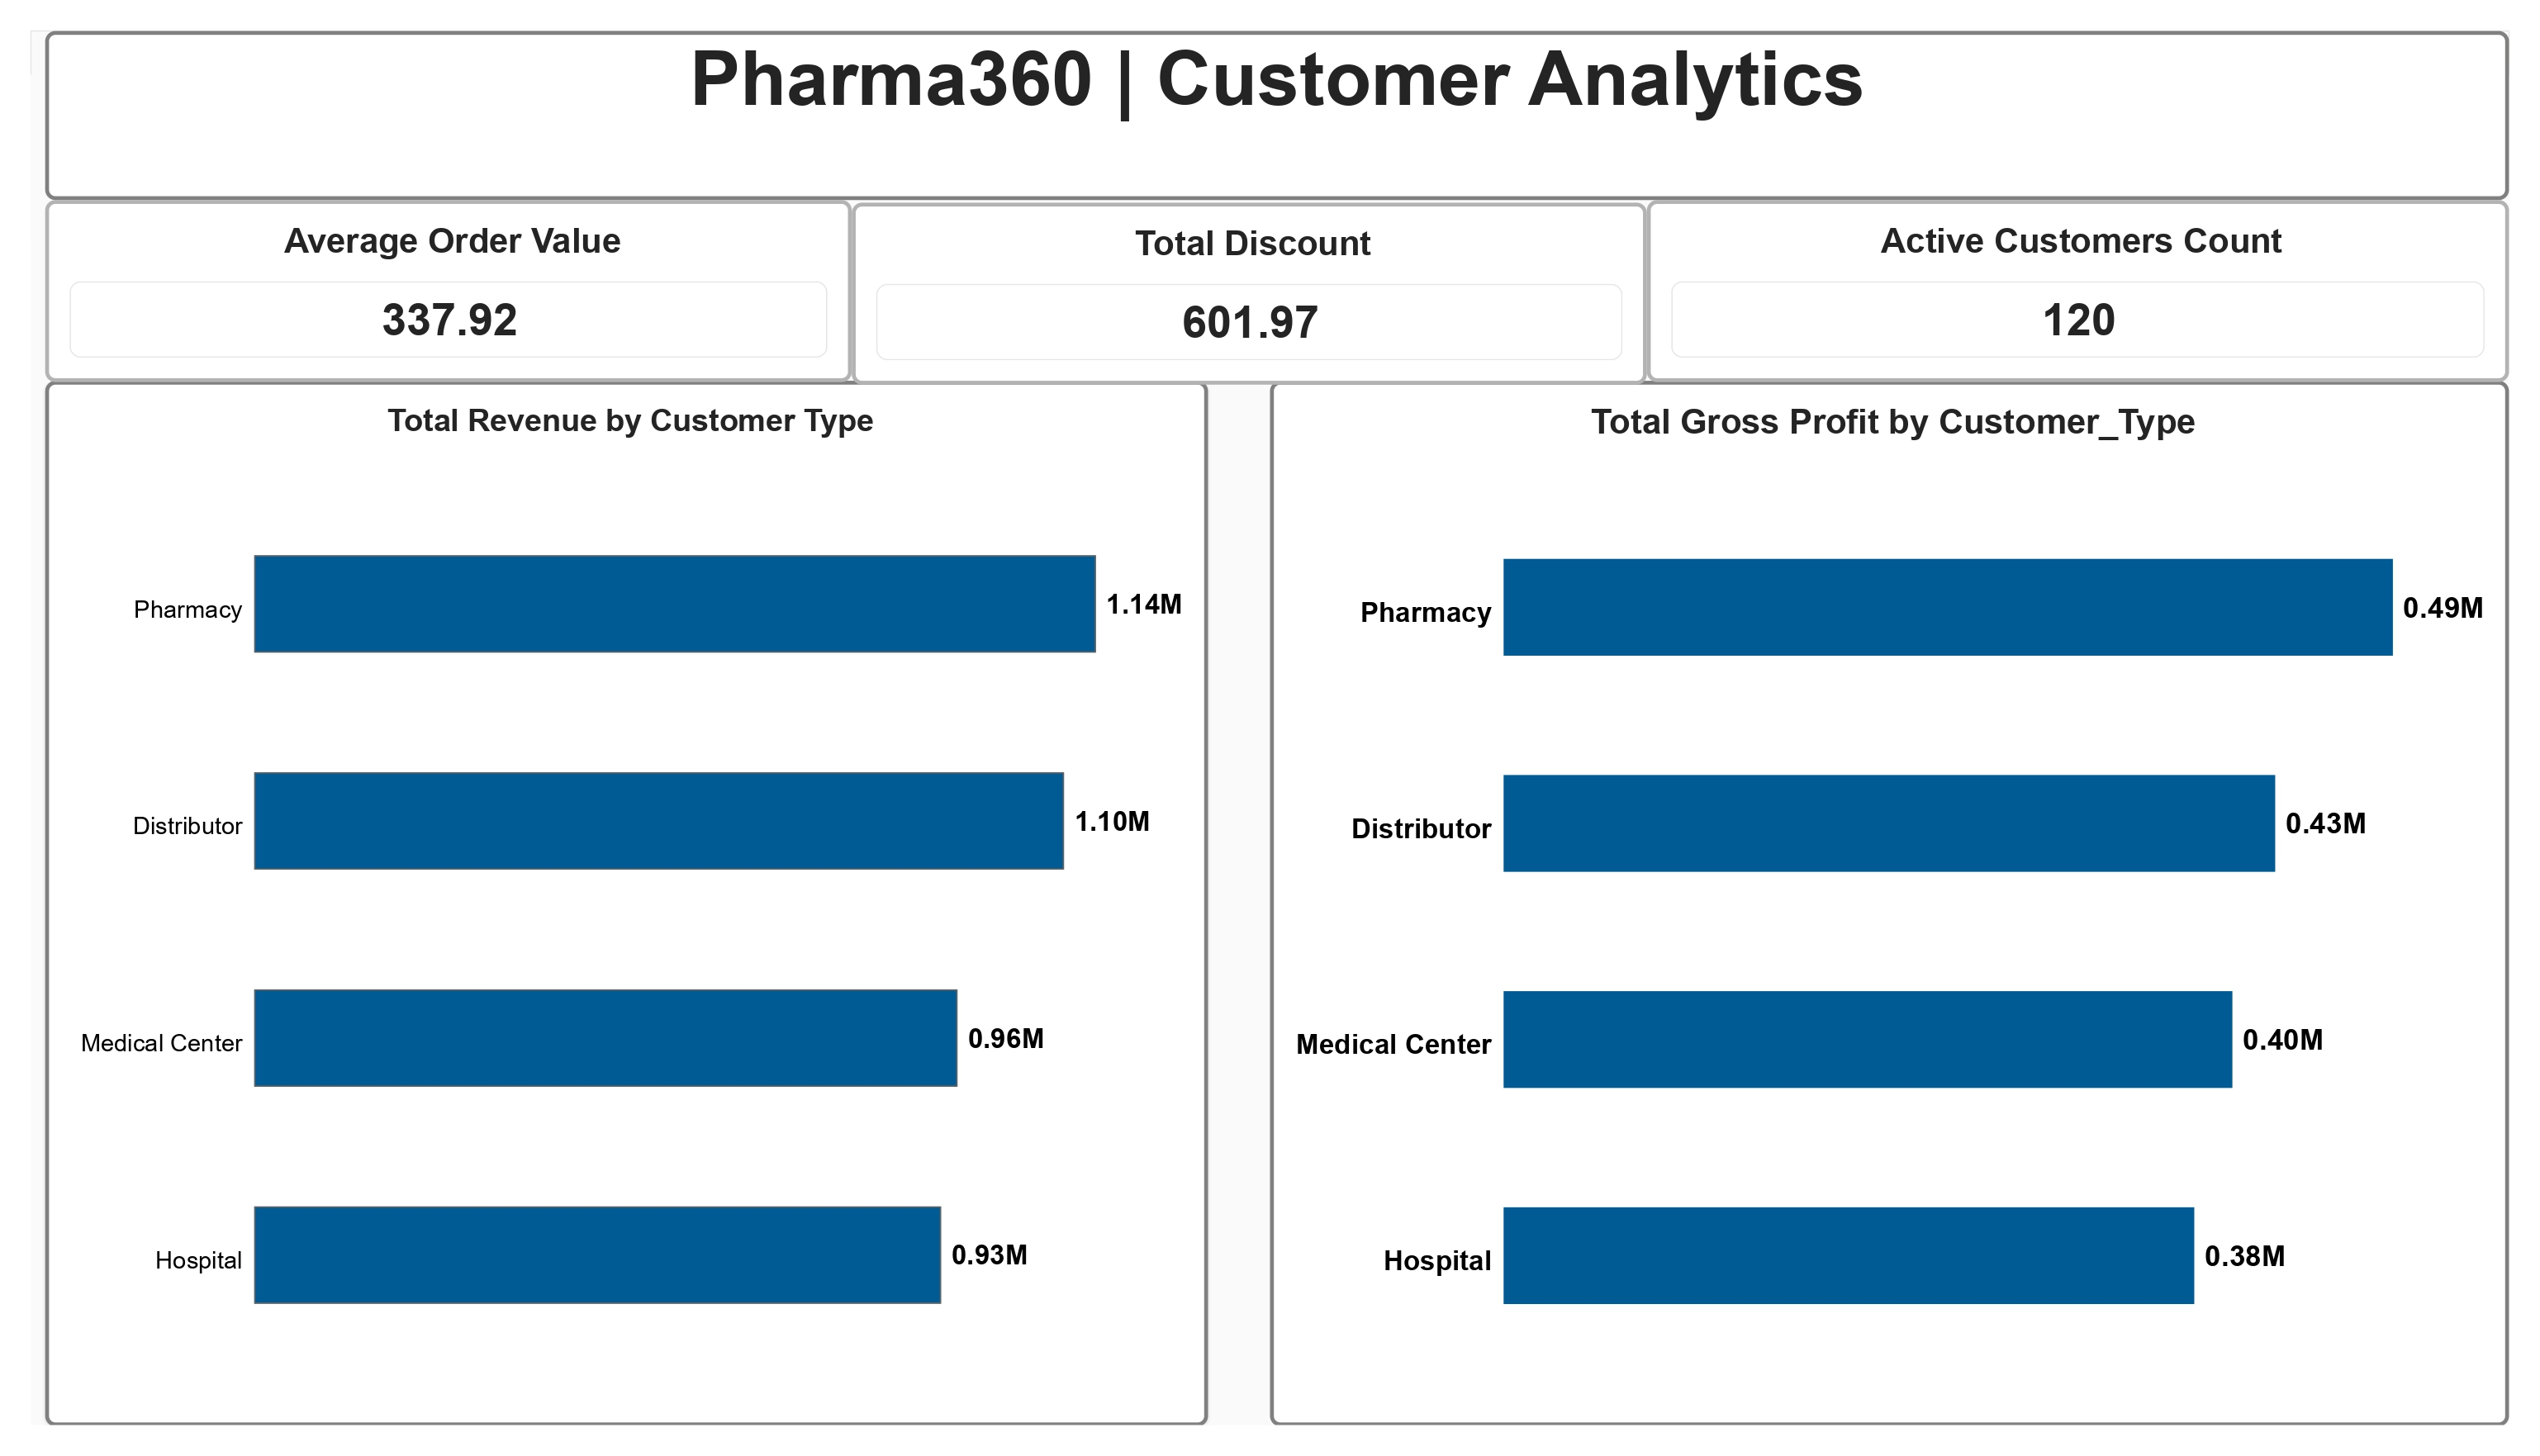

The page's visual inventory and layout, read from the dashboard file:
{"tool":"powerbi","page":{"name":"Customer Analytics","canvas":[1920,1080],"ordinal":2},"visuals":[{"type":"clusteredBarChart","title":"Total Revenue by Customer Type","fields":{"Category":["pharma360 customers.Customer_Type"],"Y":["pharma360 fact_sales.Total_Revenue"]},"box":[10.7,270.8,901,809.8],"z":0},{"type":"textbox","box":[10.7,0,1909.3,130.6],"z":1000},{"type":"barChart","fields":{"Category":["pharma360 customers.Customer_Type"],"Y":["pharma360 fact_sales.Total Gross Profit"]},"box":[960,270.8,960,809.8],"z":2000},{"type":"cardVisual","title":"Average Order Value","fields":{"Data":["pharma360 fact_sales.Avreage Order Value"]},"box":[10.7,130.6,625,141.3],"z":3000},{"type":"cardVisual","title":"Total Discount","fields":{"Data":["pharma360 fact_sales.Total Discounts"]},"box":[635.7,132.7,616.5,141.3],"z":4000},{"type":"cardVisual","title":"Active Customers Count","fields":{"Data":["pharma360 customers.Active Customers Count"]},"box":[1252.2,130.6,667.8,141.3],"z":5000}]}

Visuals, with their boxes on the page's 1920x1080 design canvas (x1, y1, x2, y2). These are canvas units, not pixel positions in the 2540x1456 screenshot, which may show the page scaled, cropped or inside an application window:
"Total Revenue by Customer Type" clusteredBarChart: [11, 271, 912, 1081]
textbox: [11, 0, 1920, 131]
barChart - pharma360 customers.Customer_Type x pharma360 fact_sales.Total Gross Profit: [960, 271, 1920, 1081]
"Average Order Value" cardVisual: [11, 131, 636, 272]
"Total Discount" cardVisual: [636, 133, 1252, 274]
"Active Customers Count" cardVisual: [1252, 131, 1920, 272]
